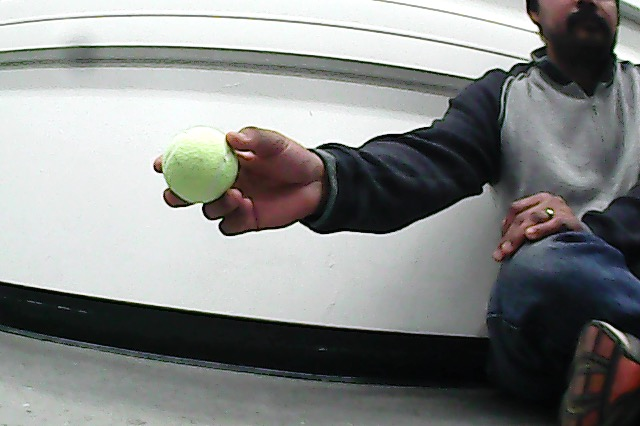ball: (160, 125, 241, 207)
